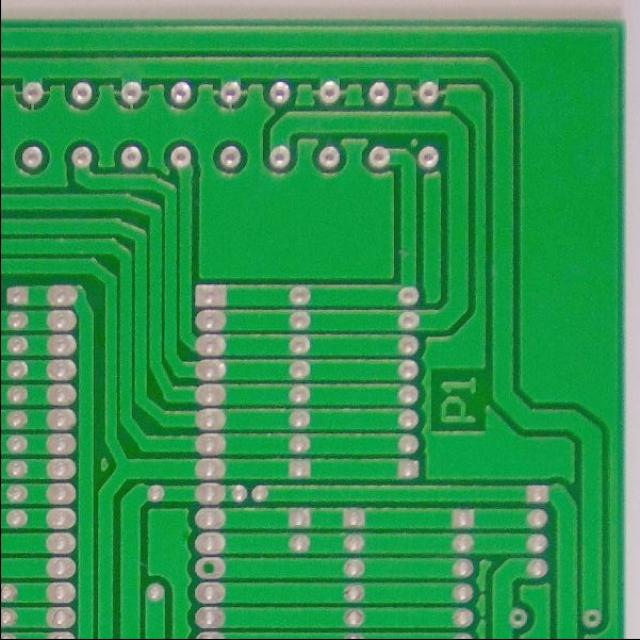Missing_Hole: (191, 554, 229, 581), (507, 605, 531, 629), (581, 607, 604, 628)
